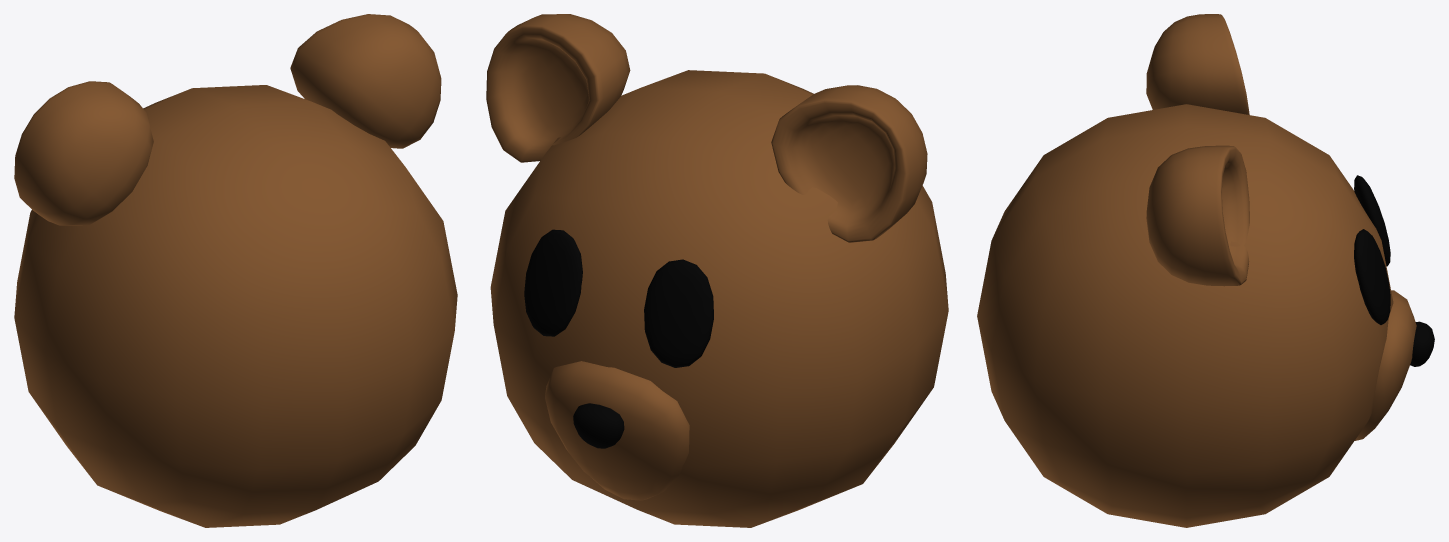
Rendered from DEFHeadbear.fbx.
3 views of the same model, side by side, from view 1: azimuth 30°, elevation 25°; view 2: azimuth 150°, elevation 25°; view 3: azimuth 270°, elevation 25° (orthographic). The views are drawn at different scales.
Parts seen in each view (by area): view 1: Head, ears; view 2: Head, ears, snout, eyes, nose; view 3: Head, ears, eyes, snout, nose.
Boxes of the visible parts, <box> form: Head: <box>14,85,457,527</box>; ears: <box>14,14,441,225</box>; Head: <box>490,70,948,527</box>; ears: <box>486,14,927,242</box>; snout: <box>545,361,689,500</box>; eyes: <box>524,229,713,367</box>; nose: <box>573,403,624,448</box>; Head: <box>977,104,1393,527</box>; ears: <box>1146,14,1249,286</box>; eyes: <box>1354,175,1390,324</box>; snout: <box>1354,290,1416,440</box>; nose: <box>1410,321,1434,366</box>.
Size of the model in its own units: 179 by 185 by 183.
